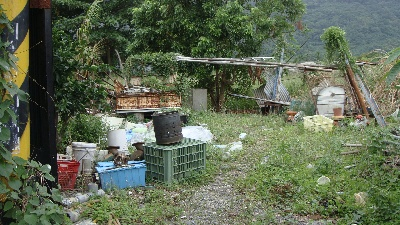box: (94, 165, 149, 189)
bucket: (106, 127, 130, 157)
